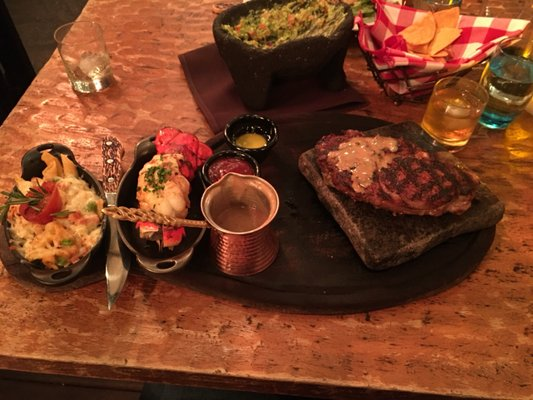sushi: (107, 205, 207, 274), (224, 114, 279, 160)
